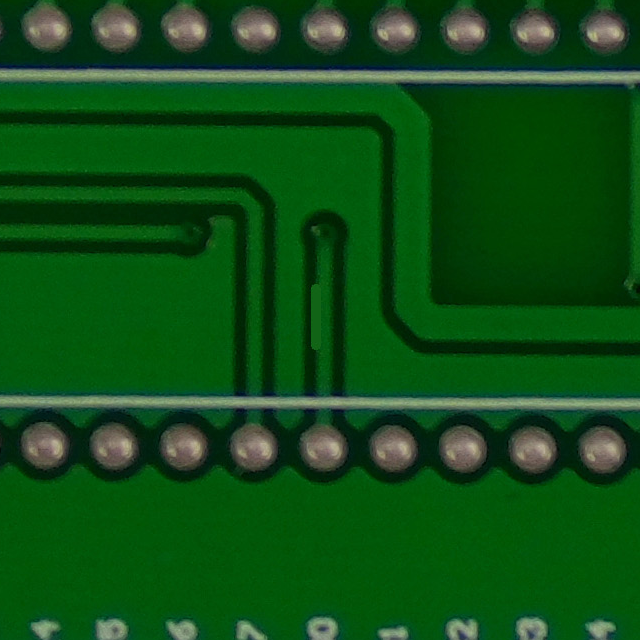spur: (292, 272, 349, 369)
